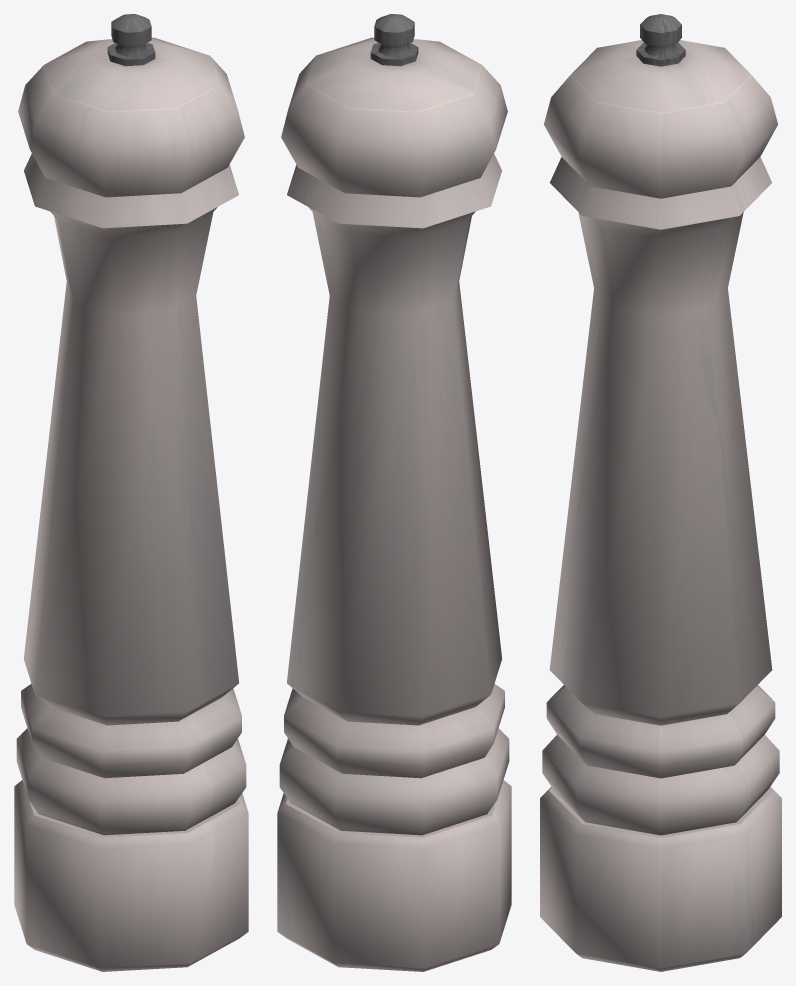
File: salt_and_pepper_grinder.FBX
3 renders of one model, left to right at view 1: azimuth 30°, elevation 25°; view 2: azimuth 150°, elevation 25°; view 3: azimuth 270°, elevation 25°, orthographic.
Visible parts, largest first — view 1: SaltPepperGrinder; view 2: SaltPepperGrinder; view 3: SaltPepperGrinder.
Part boxes in pixels (<box>): SaltPepperGrinder: <box>14,14,248,971</box>; SaltPepperGrinder: <box>277,14,511,971</box>; SaltPepperGrinder: <box>540,14,781,971</box>.
Bounding box in the file's own units: 4.36 × 18.06 × 4.36.
1 material, 1 textured.
